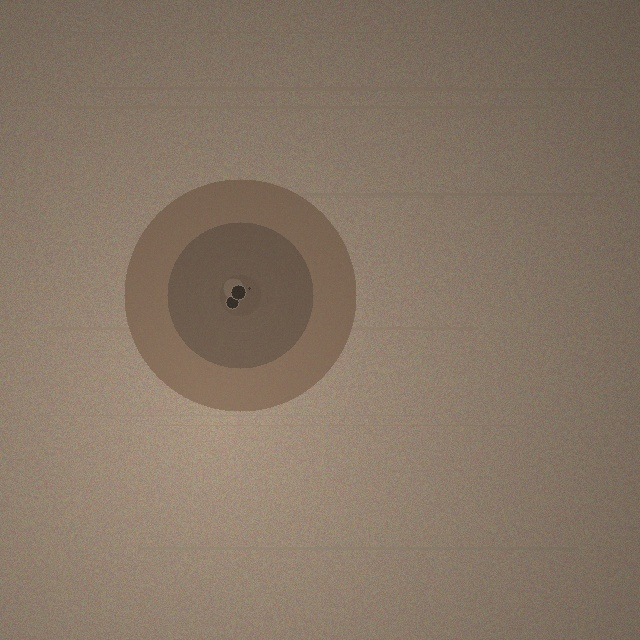shrinkage: (124, 179, 356, 411)
